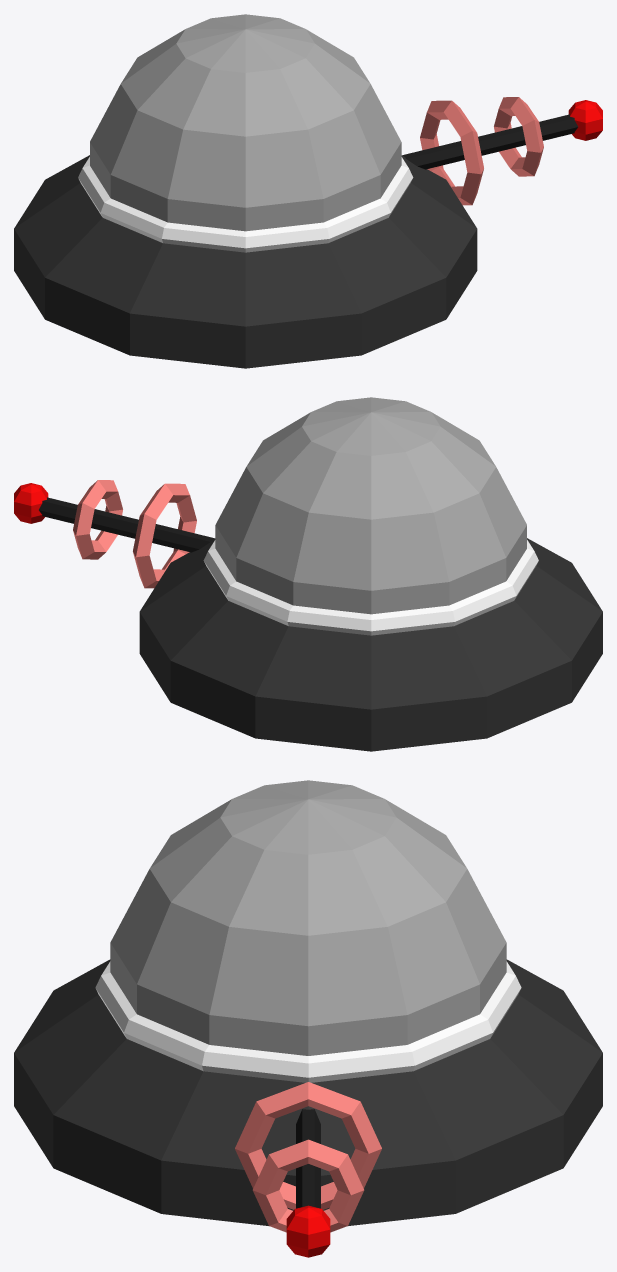
The model's file is alien_ship1.fbx.
3 views of the same model, one above another, from view 1: azimuth 30°, elevation 25°; view 2: azimuth 150°, elevation 25°; view 3: azimuth 270°, elevation 25° (orthographic). The views are drawn at different scales.
Parts seen in each view (by area): view 1: merge4; view 2: merge4; view 3: merge4.
Boxes of the visible parts, x1,y1,x2,y2 form: merge4: (14,14,602,368); merge4: (14,397,602,751); merge4: (14,780,602,1257).
Bounding box in the file's own units: 2.78 × 1.15 × 2.
